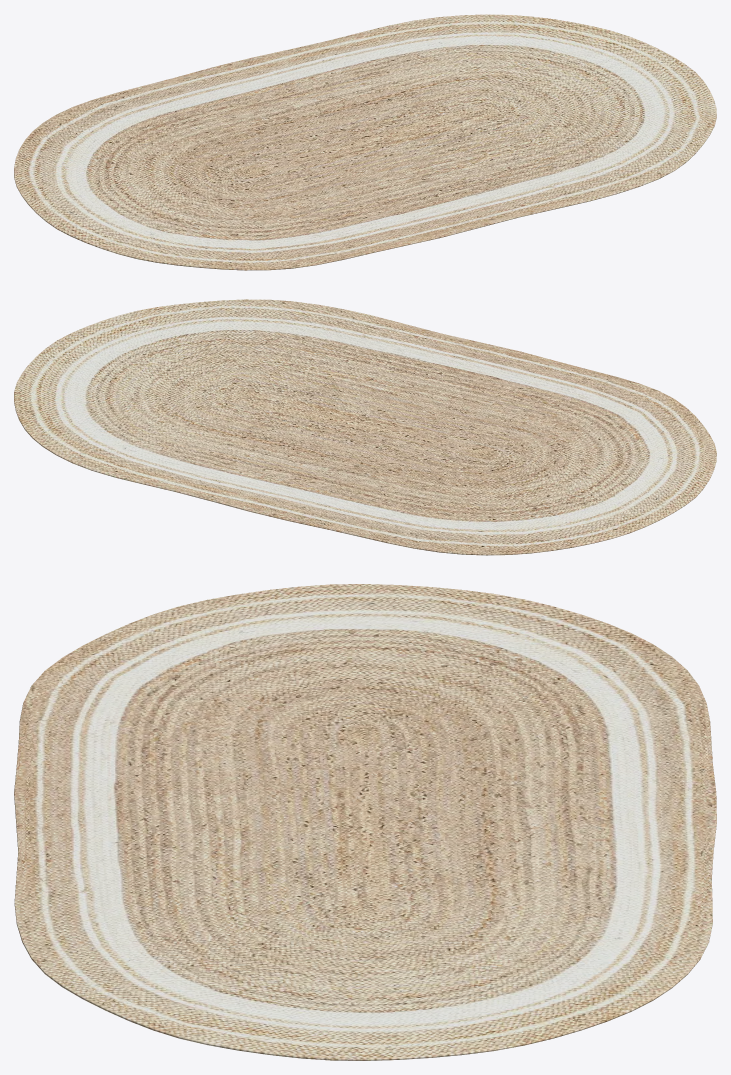
Rendered from B075TZF1TT.glb.
3 views of the same model, one above another, from view 1: azimuth 30°, elevation 25°; view 2: azimuth 150°, elevation 25°; view 3: azimuth 270°, elevation 25° (orthographic). The views are drawn at different scales.
Visible parts, largest first — view 1: RootNode; view 2: RootNode; view 3: RootNode.
Boxes of the visible parts, x1,y1,x2,y2 form: RootNode: [14, 14, 716, 270]; RootNode: [14, 299, 716, 555]; RootNode: [14, 584, 716, 1060].
Size of the model in its own units: 2.43 by 0.00624 by 1.52.
1 material, 1 textured.
